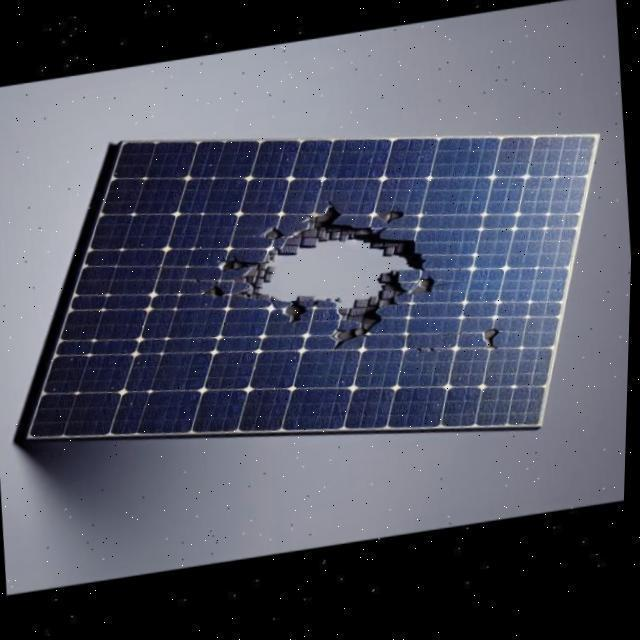Anomaly Solar Panel: (32, 137, 597, 436)
Structural Damage: (203, 177, 454, 377), (373, 212, 409, 229), (482, 332, 503, 359), (261, 225, 286, 245)
